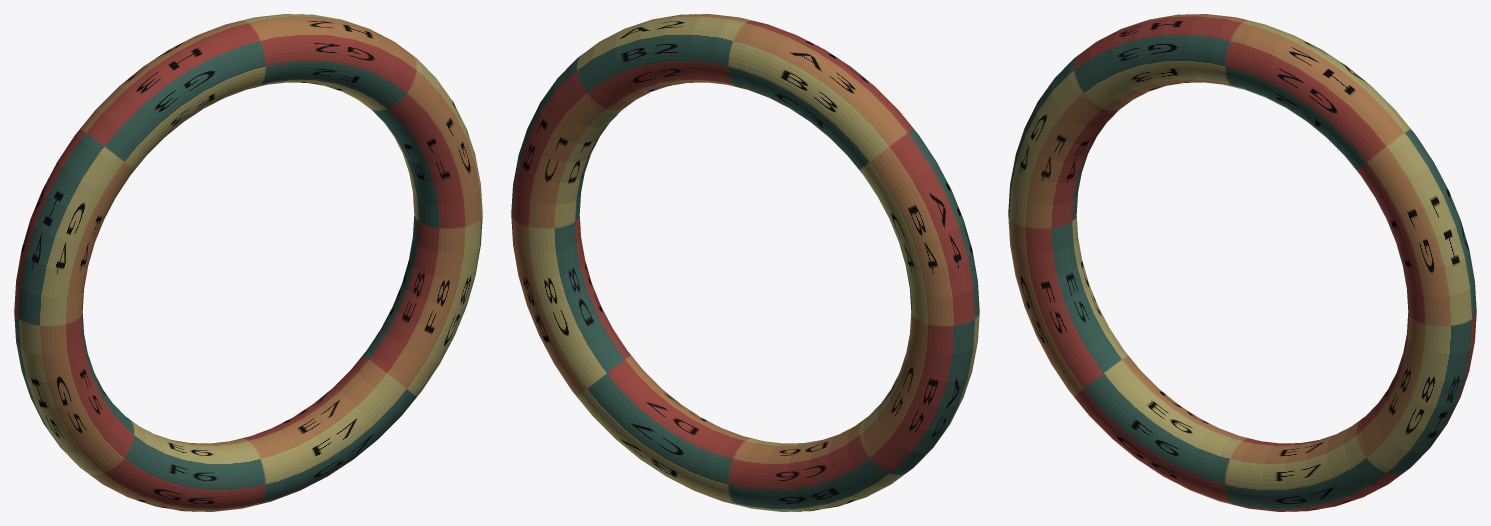
File: texture_torus_R16_r4.glb
3 renders of one model, left to right at view 1: azimuth 30°, elevation 25°; view 2: azimuth 150°, elevation 25°; view 3: azimuth 330°, elevation 25°, orthographic.
Parts seen in each view (by area): view 1: world; view 2: world; view 3: world.
Part boxes in pixels (x1,y1,x2,y2): world: (14, 14, 482, 511); world: (511, 14, 979, 511); world: (1008, 14, 1476, 511).
Size of the model in its own units: 23.73 by 23.69 by 3.06.
Materials: 1 (1 with a texture image).
